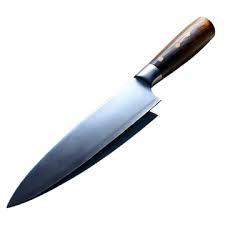Knife: (6, 15, 215, 208)
